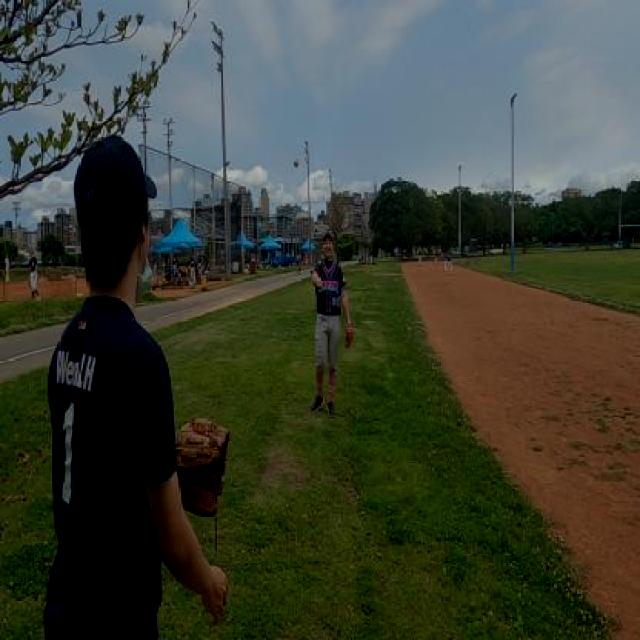sports ball: (292, 159, 300, 169)
